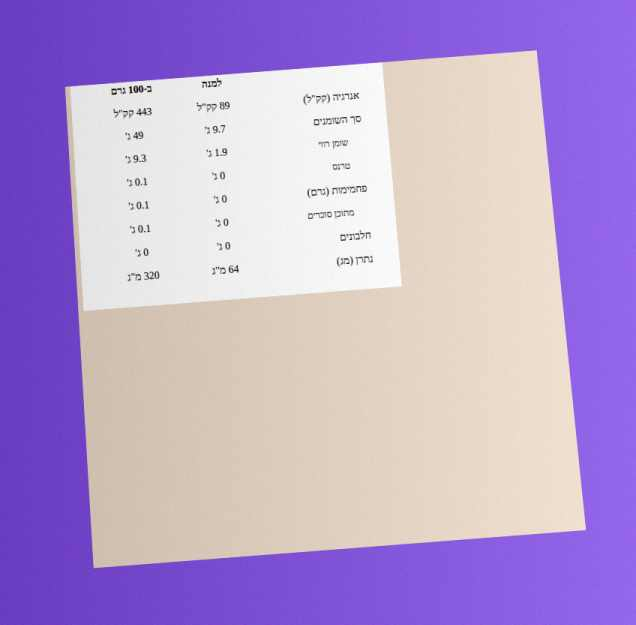carbs: (127, 198, 151, 213)
energy: (112, 104, 154, 121)
fat: (123, 128, 145, 143)
protein: (134, 245, 150, 260)
